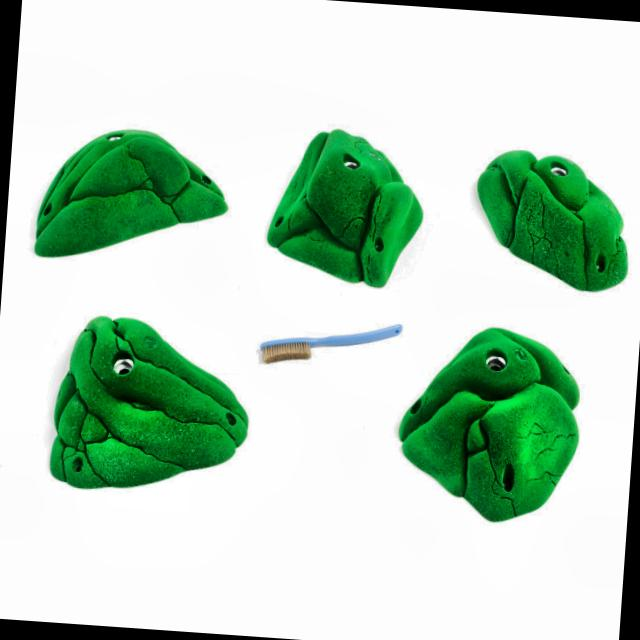Hold: (390, 320, 582, 528), (46, 312, 254, 498), (35, 123, 234, 268), (267, 125, 427, 294), (466, 145, 640, 294)
